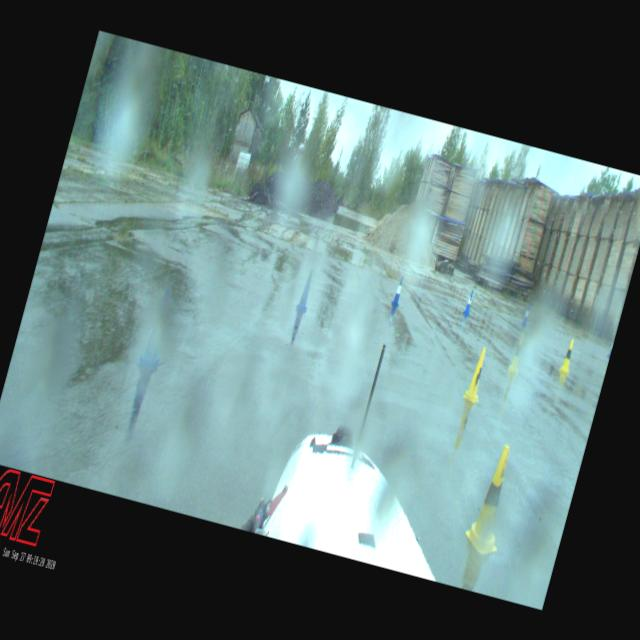blue_cone: (134, 285, 180, 372), (295, 268, 317, 312), (390, 275, 406, 306), (463, 289, 475, 315), (520, 303, 532, 326), (606, 340, 614, 358)
yellow_cone: (461, 441, 523, 557), (462, 346, 491, 402), (507, 332, 527, 372), (558, 338, 577, 374)
